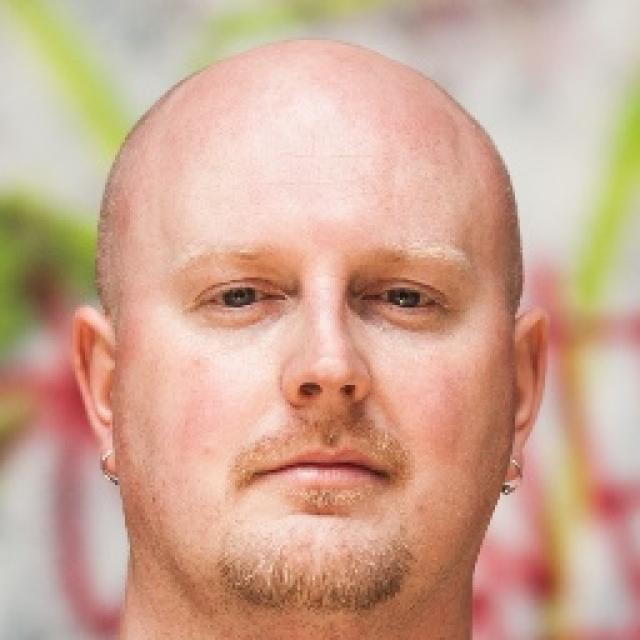earlobe: (67, 304, 122, 483), (501, 308, 553, 488)
